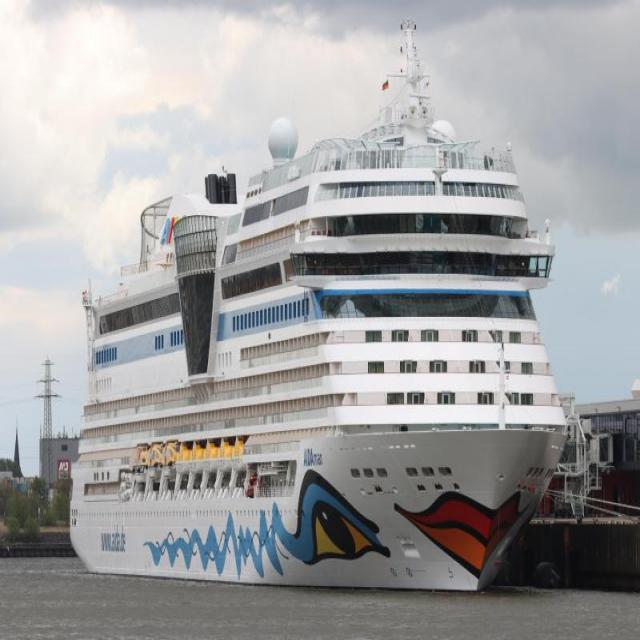cruises: (70, 29, 567, 598)
